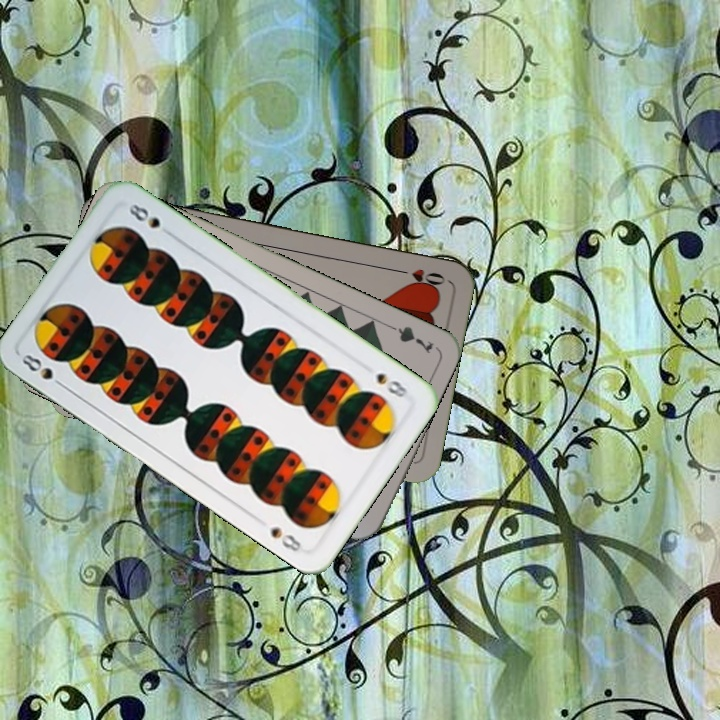G7: (381, 319, 436, 357)
HO: (390, 264, 448, 290)
S8: (17, 350, 69, 391), (372, 368, 411, 401)
